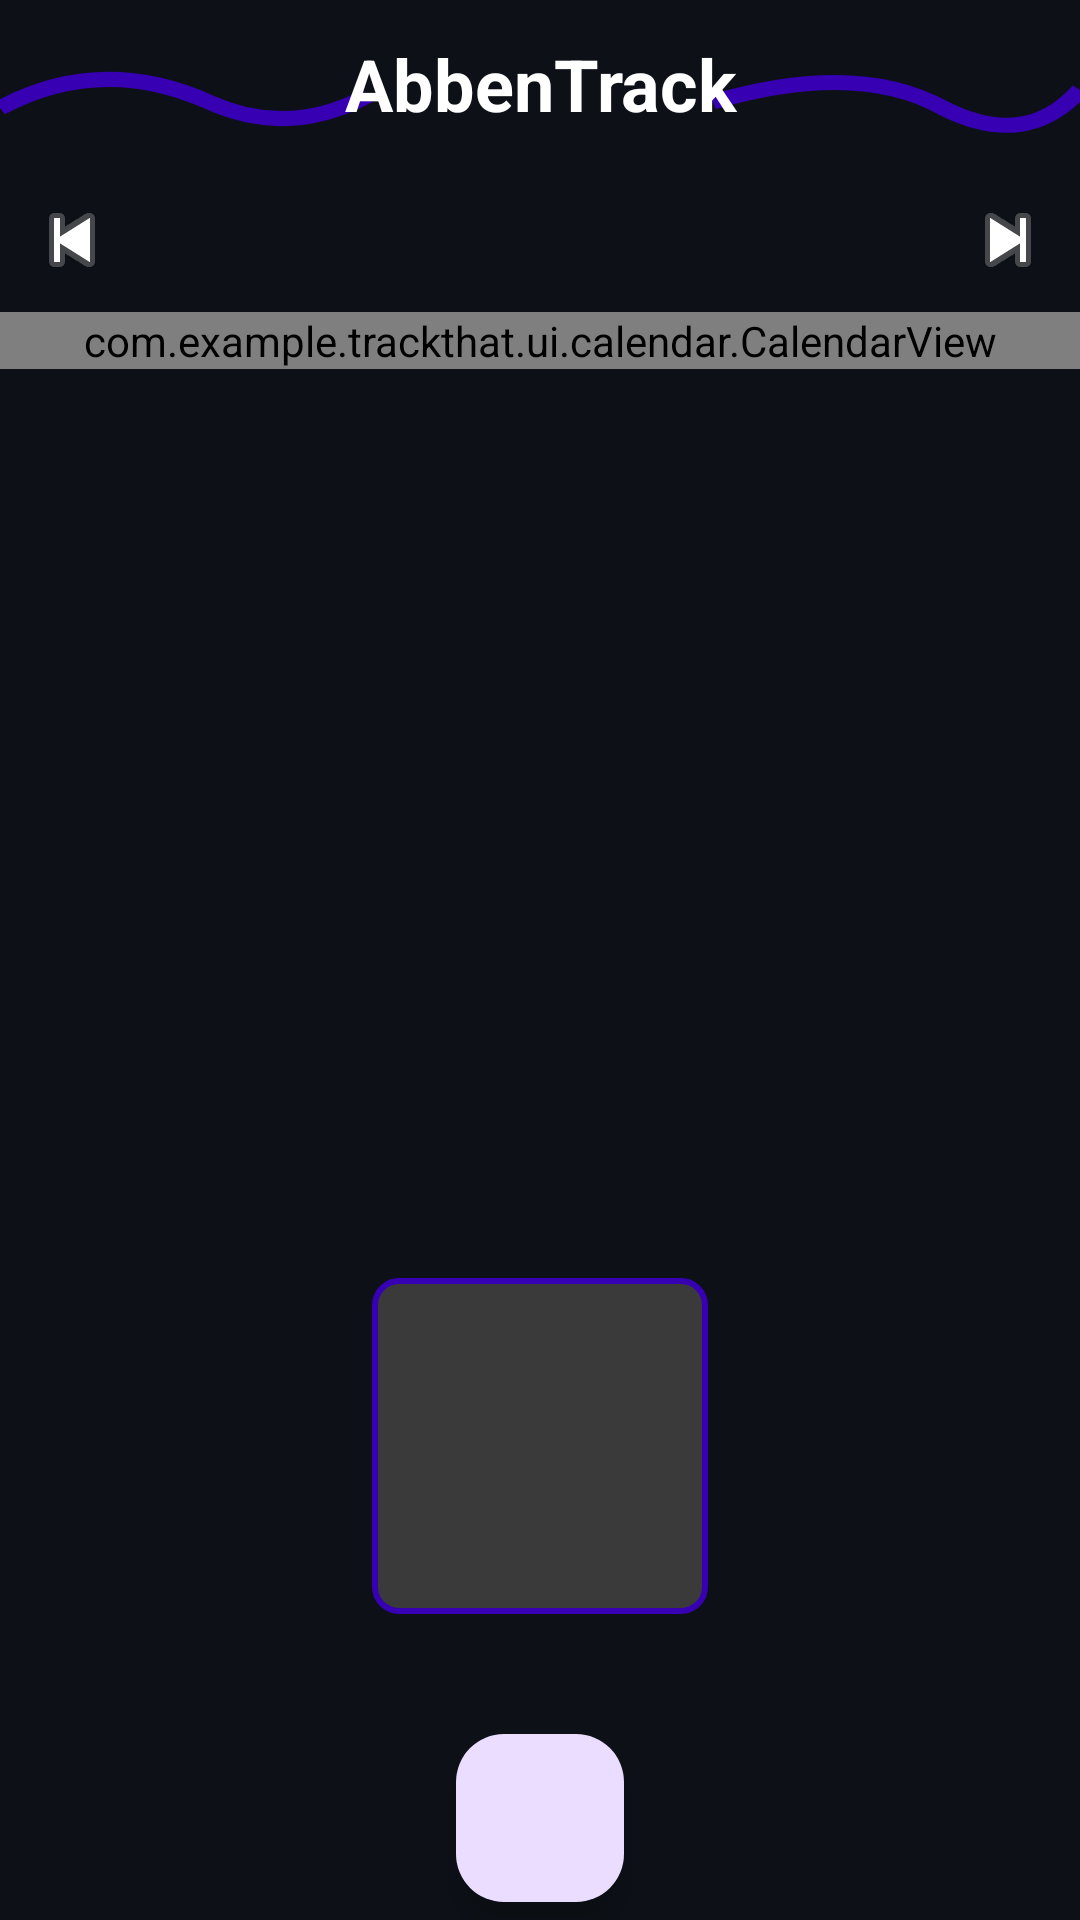

Where icons sit on this 1080px x 1920px app screen, as [left=x1, top=y1, right=x2, bottom=y2]:
next: [left=985, top=213, right=1031, bottom=267]
previous: [left=49, top=213, right=95, bottom=267]
